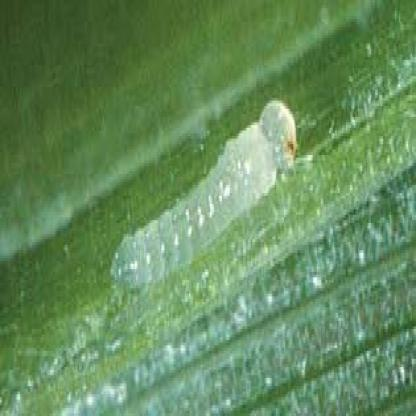sawfly: (108, 98, 301, 296)
